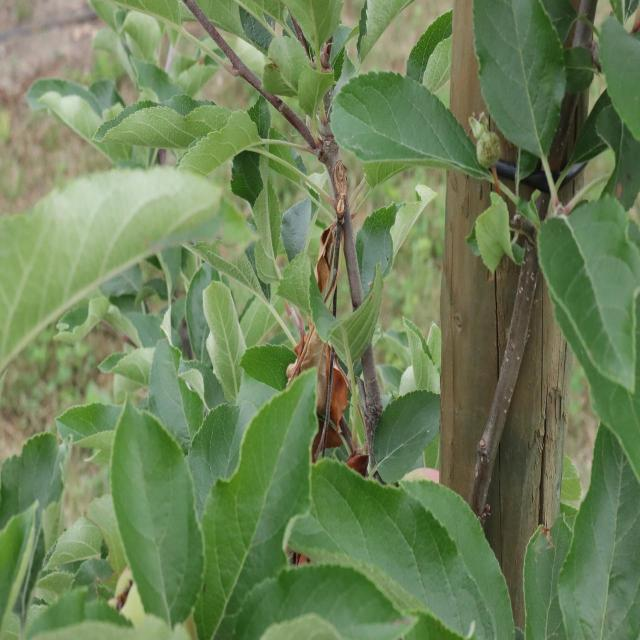-FireBlight-: (296, 313, 341, 452), (308, 217, 336, 299)
